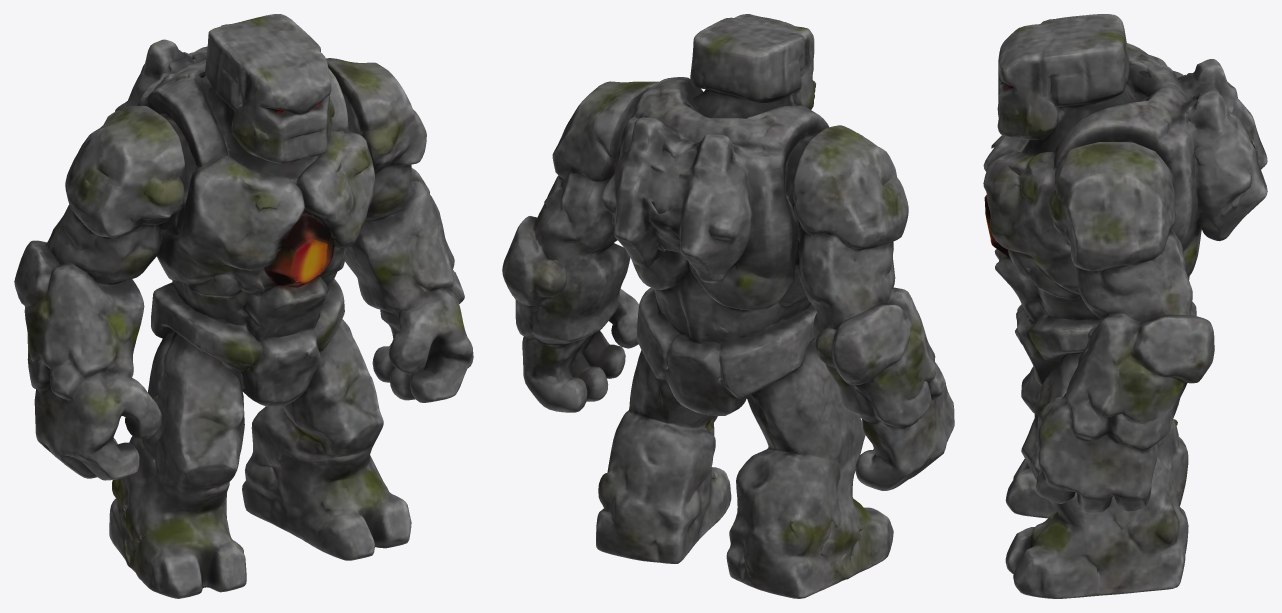
File: golem.glb
3 renders of one model, left to right at view 1: azimuth 30°, elevation 25°; view 2: azimuth 150°, elevation 25°; view 3: azimuth 270°, elevation 25°, orthographic.
Bounding box in the file's own units: 0.8355 × 1 × 0.5069.
1 material, 1 textured.
